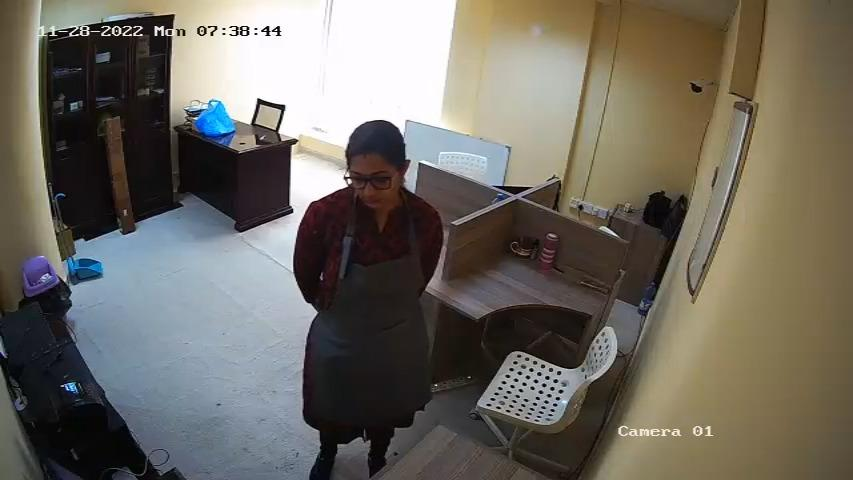apron: (308, 219, 431, 404)
